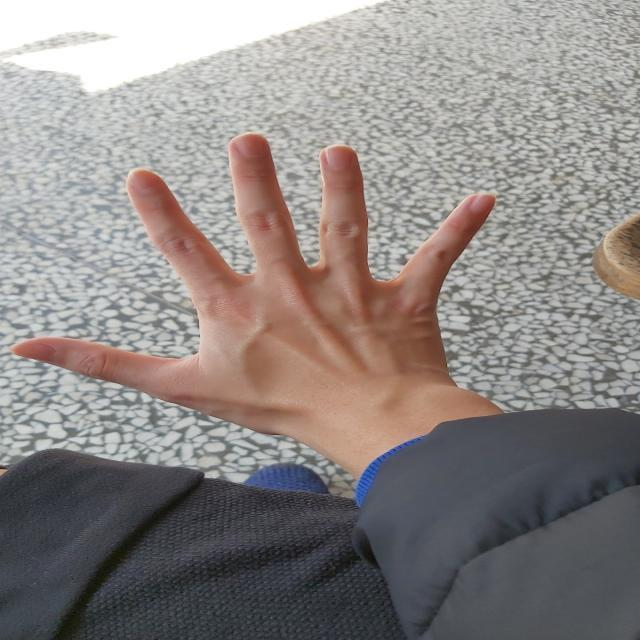hand: (3, 129, 537, 441)
